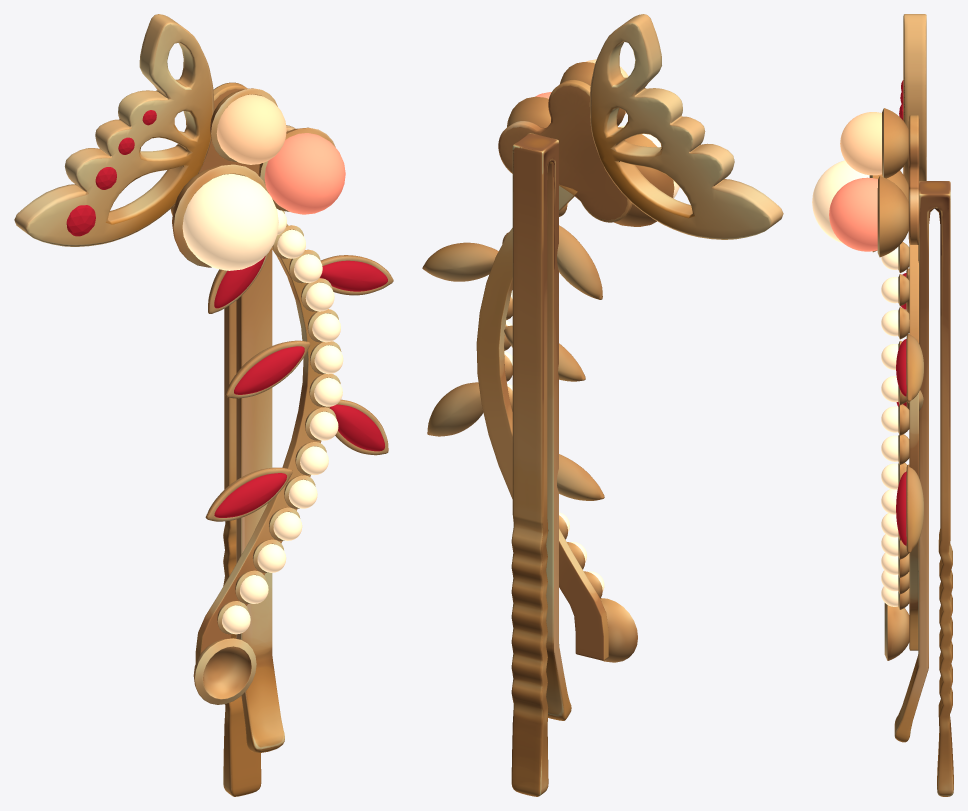
The picture shows the model from 3 angles, left to right: view 1: azimuth 30°, elevation 25°; view 2: azimuth 150°, elevation 25°; view 3: azimuth 270°, elevation 25°; orthographic projection. The views are drawn at different scales.
Visible parts, largest first — view 1: hairakuse; view 2: hairakuse; view 3: hairakuse.
Boxes of the visible parts, <box> form: hairakuse: <box>14,14,393,796</box>; hairakuse: <box>422,14,783,796</box>; hairakuse: <box>812,14,953,796</box>.
Bounding box in the file's own units: 72.64 × 152 × 26.6.
